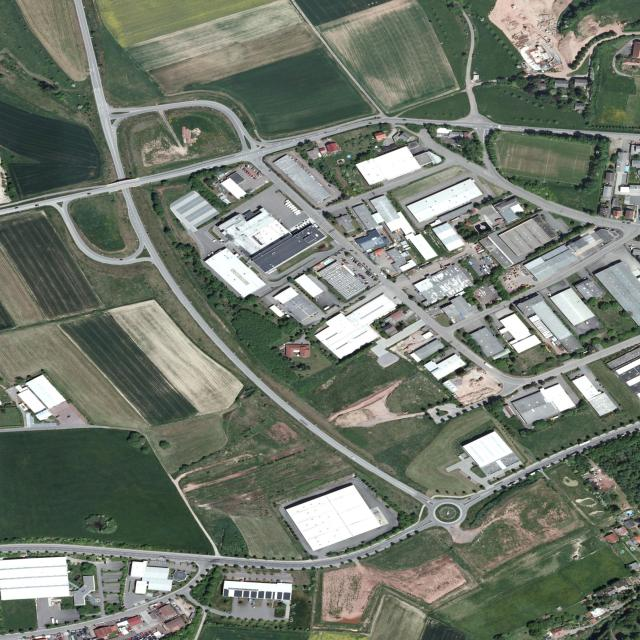small-vehicle: (582, 277, 588, 280), (365, 270, 369, 274), (376, 275, 380, 279), (364, 282, 369, 285), (368, 268, 373, 271), (385, 255, 390, 258), (393, 296, 398, 299), (332, 255, 337, 258), (152, 607, 157, 610), (142, 635, 147, 638), (76, 633, 81, 636), (81, 635, 86, 638), (366, 272, 370, 275), (361, 267, 365, 270), (359, 266, 363, 269), (358, 265, 362, 268), (373, 272, 377, 275), (363, 263, 367, 266), (414, 289, 418, 292), (467, 161, 471, 164), (253, 177, 257, 180), (256, 172, 260, 175), (256, 176, 260, 179), (242, 168, 246, 171), (240, 166, 244, 169), (144, 632, 148, 635), (150, 633, 154, 636), (149, 632, 153, 635), (152, 630, 156, 633), (151, 629, 155, 632), (128, 617, 132, 620), (116, 621, 120, 624), (140, 618, 144, 621), (469, 478, 473, 481), (140, 632, 144, 635), (141, 633, 145, 636), (142, 634, 146, 637), (143, 636, 147, 639), (147, 636, 151, 639), (135, 637, 139, 640), (83, 637, 87, 640), (83, 629, 87, 632), (493, 477, 497, 480), (467, 476, 471, 479), (82, 636, 86, 639), (67, 415, 71, 418), (56, 415, 60, 418), (72, 630, 76, 633), (78, 636, 82, 639), (349, 250, 354, 252), (362, 251, 367, 253), (387, 258, 392, 260), (402, 119, 407, 121), (352, 235, 357, 237), (337, 252, 342, 254), (353, 270, 358, 272), (207, 167, 212, 169), (84, 633, 89, 635), (357, 263, 360, 266), (356, 262, 359, 265), (352, 259, 355, 262), (351, 258, 354, 261), (350, 256, 353, 259), (370, 275, 373, 278), (371, 276, 374, 279), (377, 255, 380, 258), (251, 175, 254, 178), (249, 174, 252, 177), (246, 170, 249, 173), (244, 169, 247, 172), (250, 165, 253, 168), (149, 631, 152, 634), (361, 276, 365, 278), (365, 266, 369, 268), (381, 121, 385, 123), (362, 278, 366, 280), (359, 275, 363, 277), (258, 175, 262, 177), (336, 253, 340, 255), (334, 254, 338, 256), (341, 258, 345, 260), (342, 259, 346, 261), (343, 261, 347, 263), (344, 262, 348, 264), (347, 263, 351, 265), (349, 266, 353, 268), (352, 268, 356, 270), (368, 122, 372, 124), (324, 132, 328, 134), (153, 637, 157, 639), (152, 636, 156, 638), (147, 630, 151, 632), (120, 618, 124, 620), (147, 629, 151, 631), (146, 634, 150, 636), (136, 634, 140, 636), (137, 635, 141, 637), (138, 636, 142, 638), (148, 637, 152, 639), (139, 637, 143, 639), (134, 636, 138, 638), (124, 617, 128, 619), (468, 498, 472, 500), (83, 628, 87, 630), (79, 629, 83, 631), (159, 557, 163, 559), (15, 207, 19, 209), (35, 204, 39, 206), (87, 193, 91, 195), (80, 632, 84, 634), (75, 630, 79, 632), (76, 631, 80, 633), (76, 633, 80, 635), (84, 632, 88, 634), (85, 634, 89, 636), (86, 637, 90, 639), (77, 635, 81, 637), (80, 633, 84, 635), (81, 634, 85, 636), (369, 274, 371, 277), (354, 261, 357, 263), (336, 129, 339, 131), (252, 167, 254, 170), (254, 168, 256, 171), (255, 171, 258, 173), (248, 172, 250, 175), (248, 165, 250, 168), (245, 165, 247, 168), (151, 635, 154, 637), (84, 631, 87, 633), (80, 630, 83, 632), (364, 281, 368, 282), (357, 274, 361, 275), (348, 265, 352, 266), (119, 259, 123, 260), (86, 636, 90, 637)
